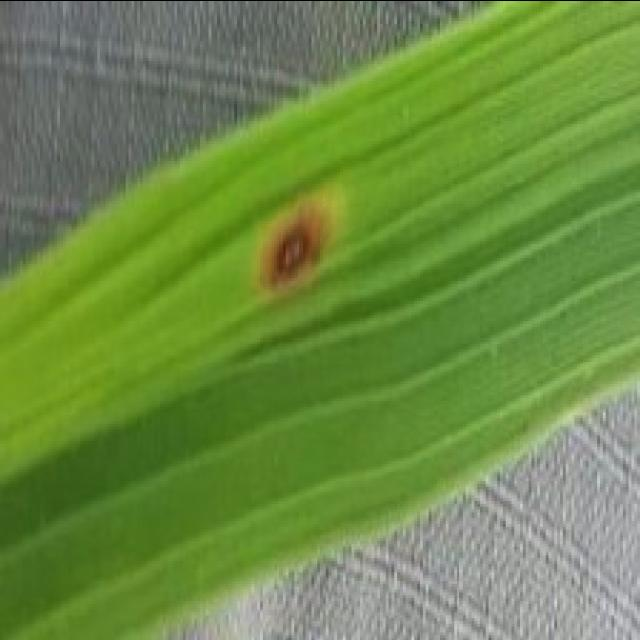Unhealthy: (254, 185, 337, 295)
